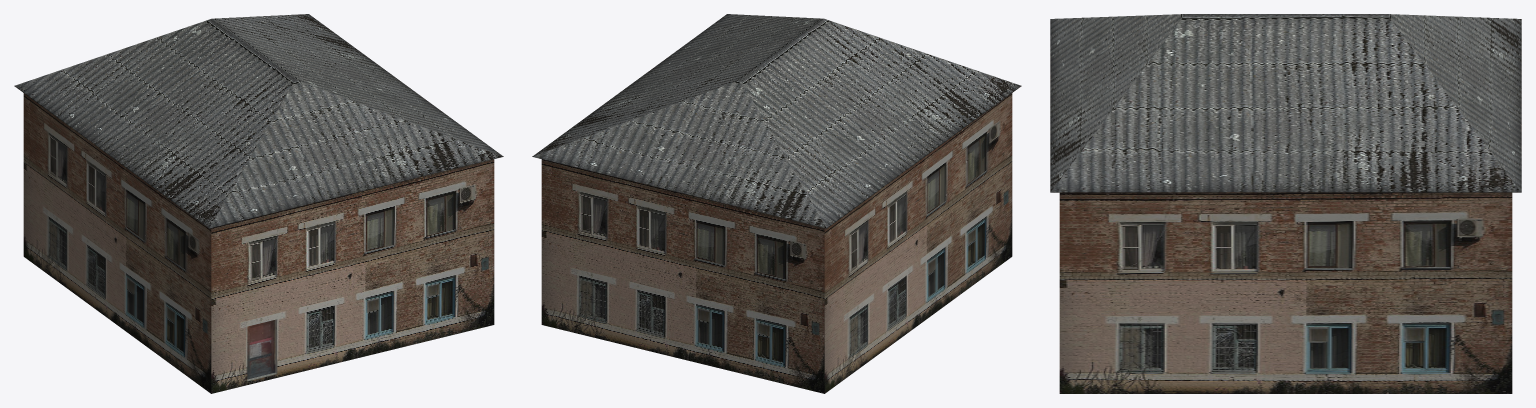
File: Dhz_zsfz_08.FBX
3 renders of one model, left to right at view 1: azimuth 30°, elevation 25°; view 2: azimuth 150°, elevation 25°; view 3: azimuth 270°, elevation 25°, orthographic. The views are drawn at different scales.
Parts seen in each view (by area): view 1: Dhz_zsfz_08; view 2: Dhz_zsfz_08; view 3: Dhz_zsfz_08.
Boxes of the visible parts, box(x1,y1,x2,y2) form: Dhz_zsfz_08: box(14, 14, 503, 393); Dhz_zsfz_08: box(532, 14, 1021, 393); Dhz_zsfz_08: box(1050, 14, 1521, 393).
Size of the model in its own units: 10.92 by 8.6 by 12.52.
Materials: 1 (1 with a texture image).
